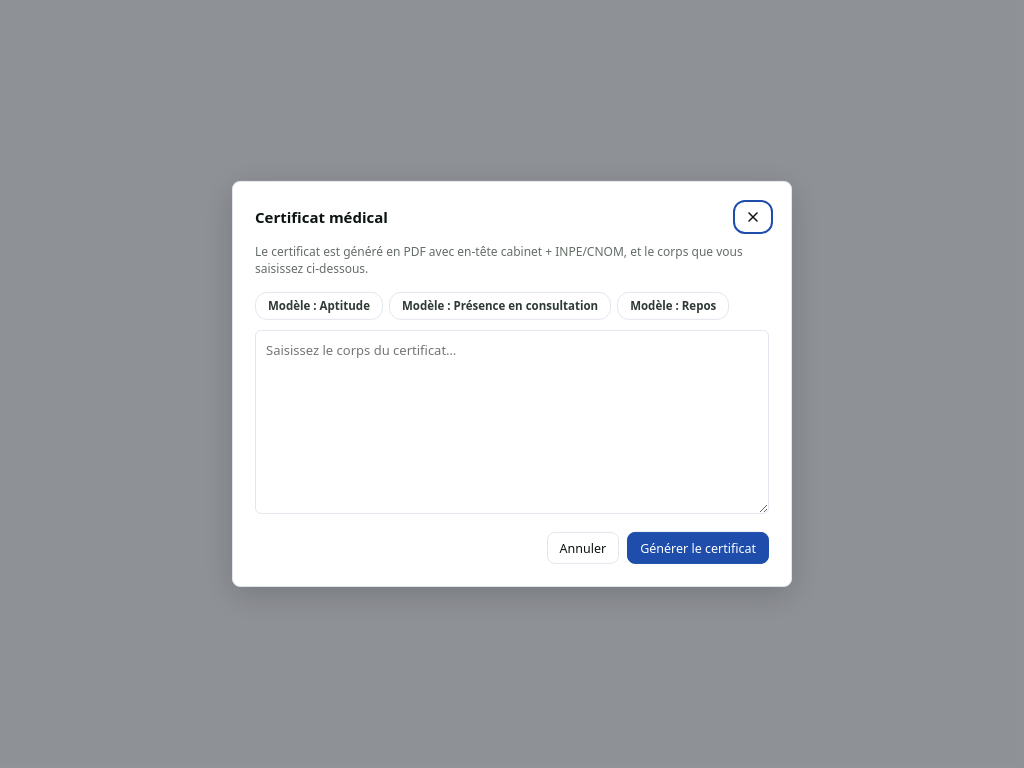
<CertificatDialog /> — F10 modèle Repos › calcule date de fin = début + jours - 1 (inclus)
Click the button "Modèle : Repos". click: click(673, 306)
box: [617,292,729,320]
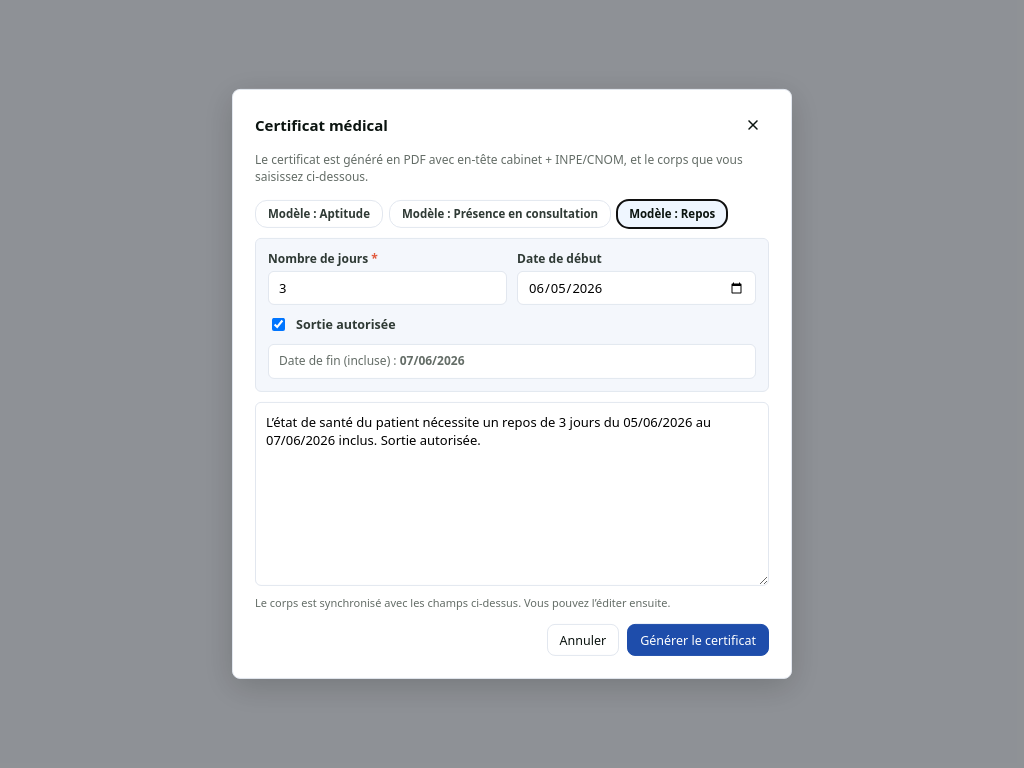
Clear the date field named "Date de début du repos". click: (636, 288)
box: [517,271,756,305]
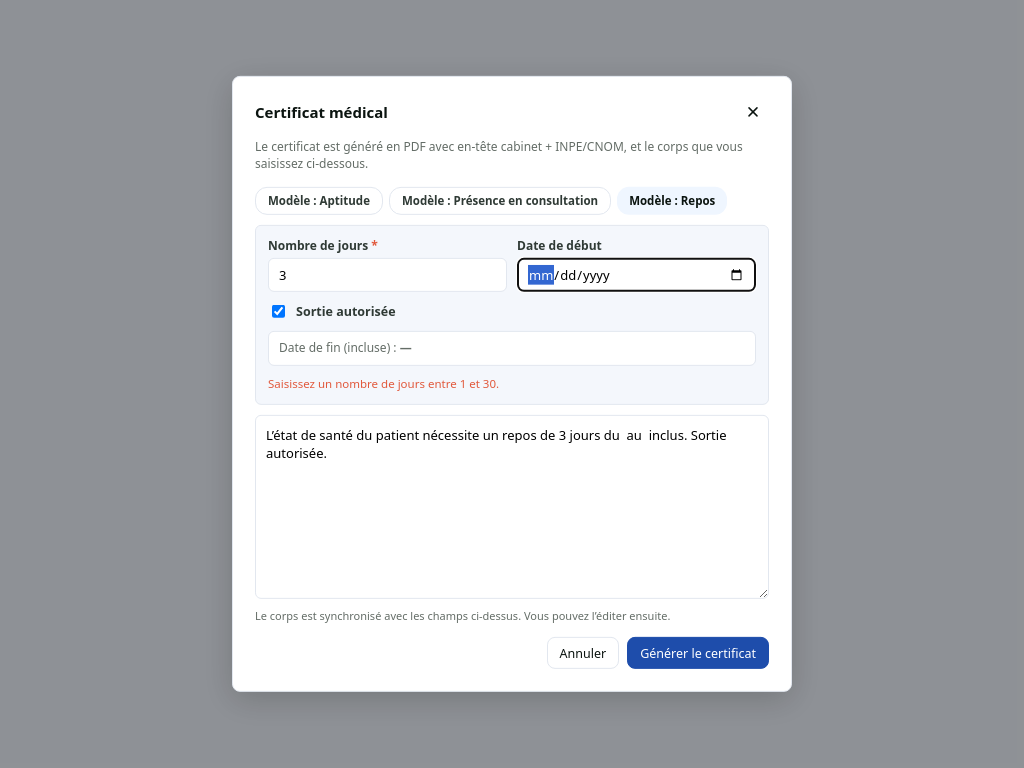
Type "2026-05-10" into the date field named "Date de début du repos". click: (636, 275)
box: [517,258,756,292]
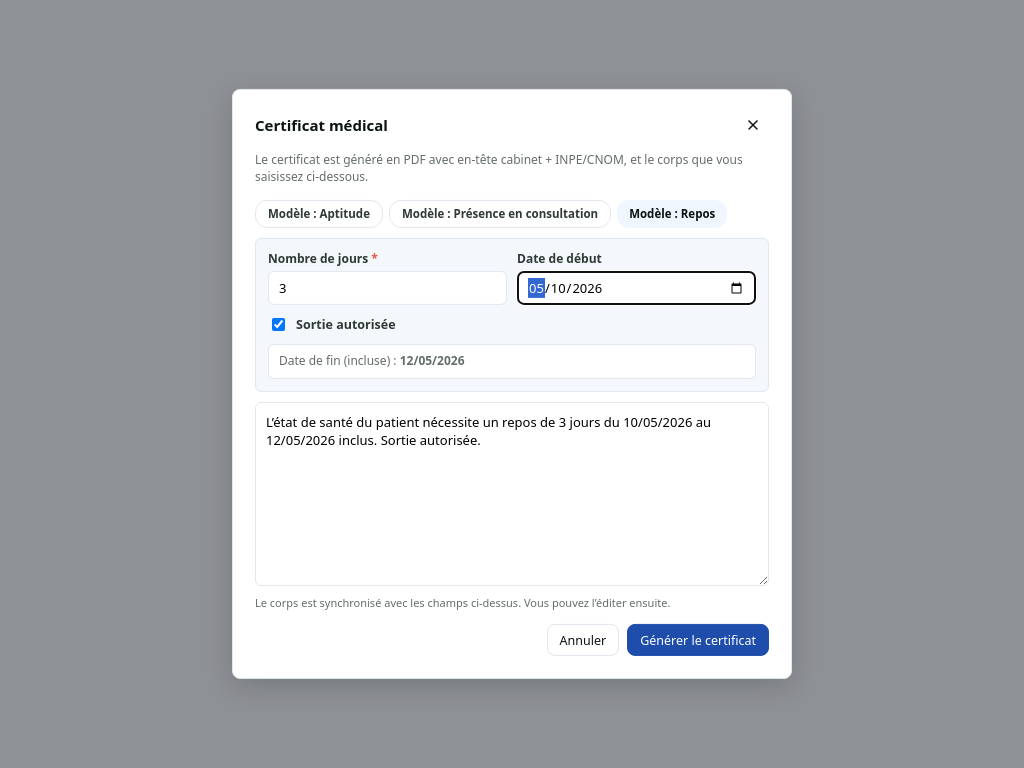
Clear the number field named "Nombre de jours de repos". click: (388, 288)
box: [268,271,507,305]
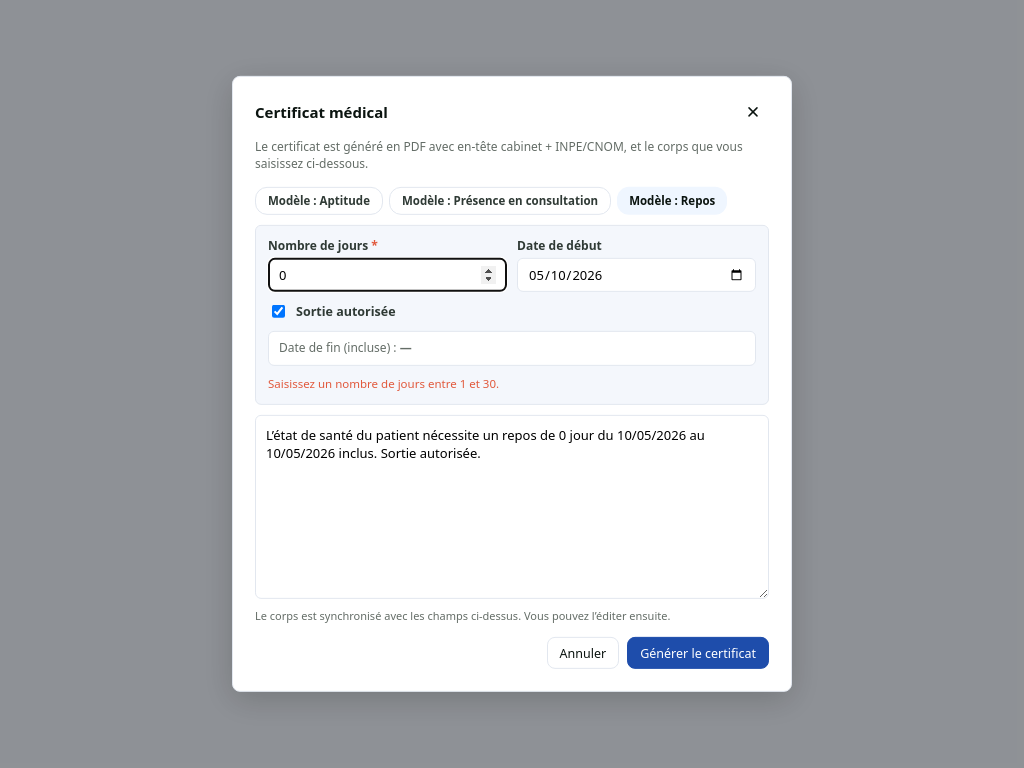
Type "5" into the number field named "Nombre de jours de repos". click: (388, 275)
box: [268,258,507,292]
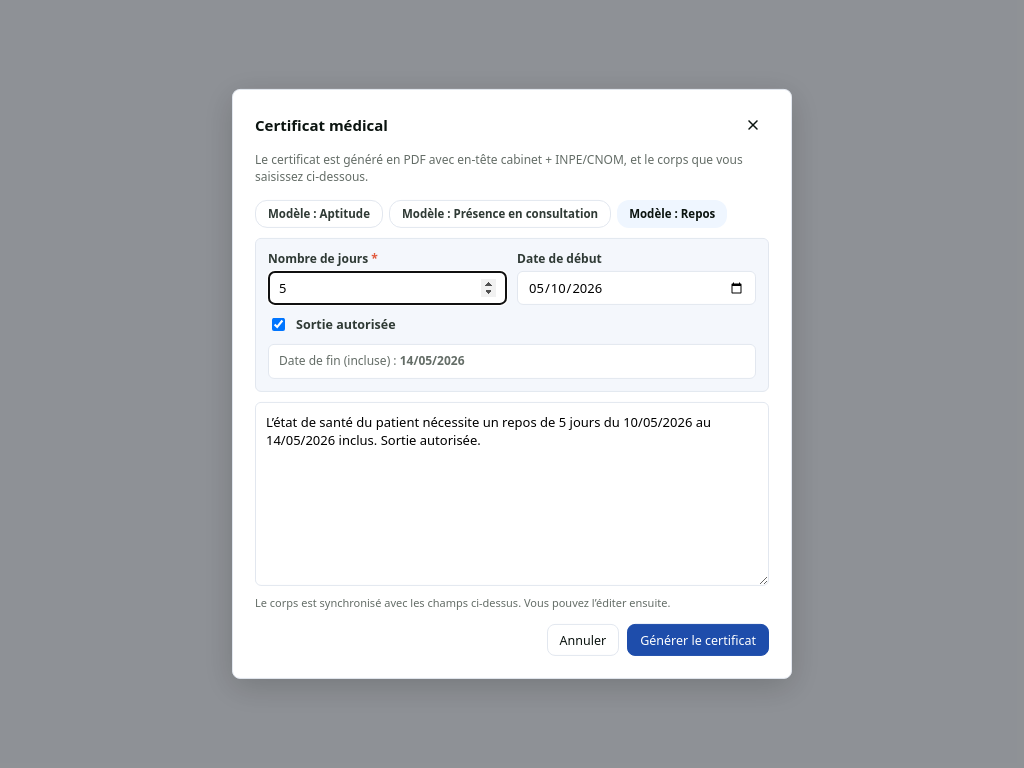
Expected: the element with test id "rest-end-preview" shows "14/05/2026", [400,352,464,369]
